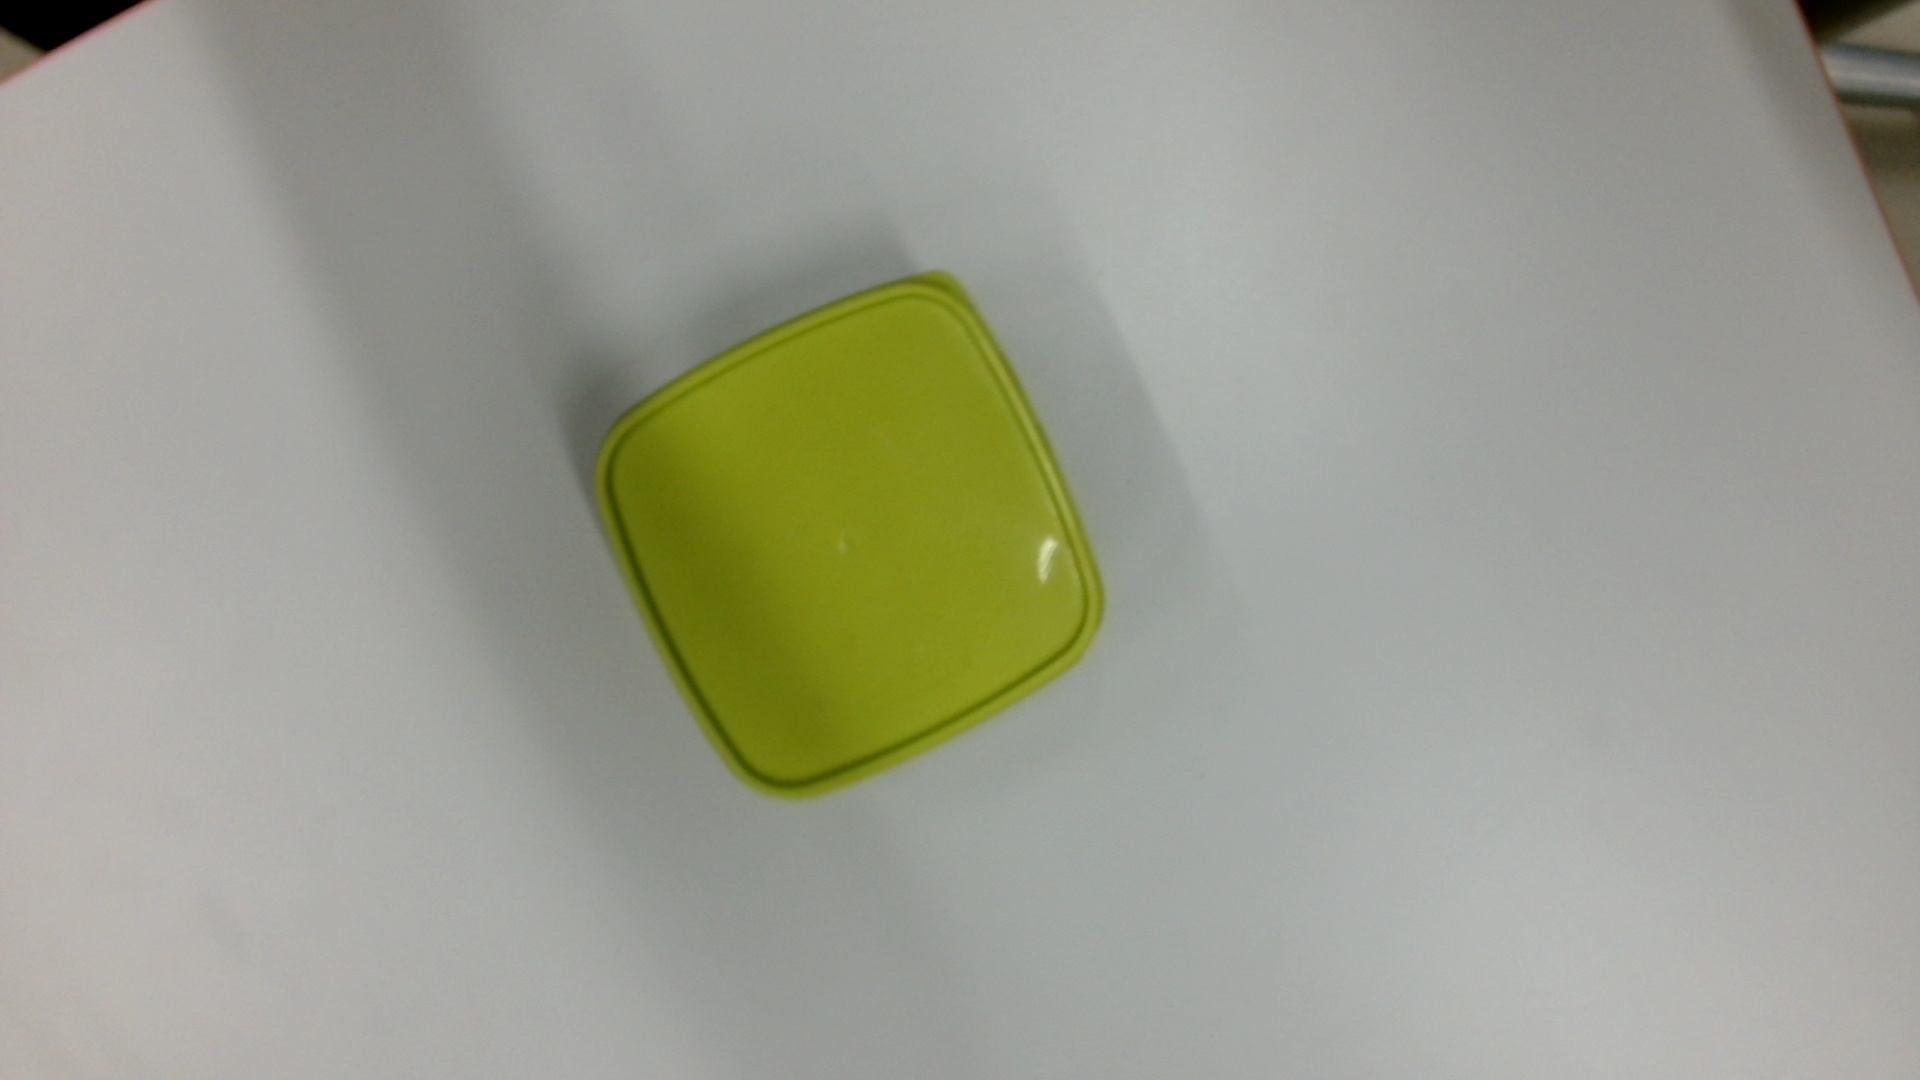Box: (584, 262, 1116, 811)
